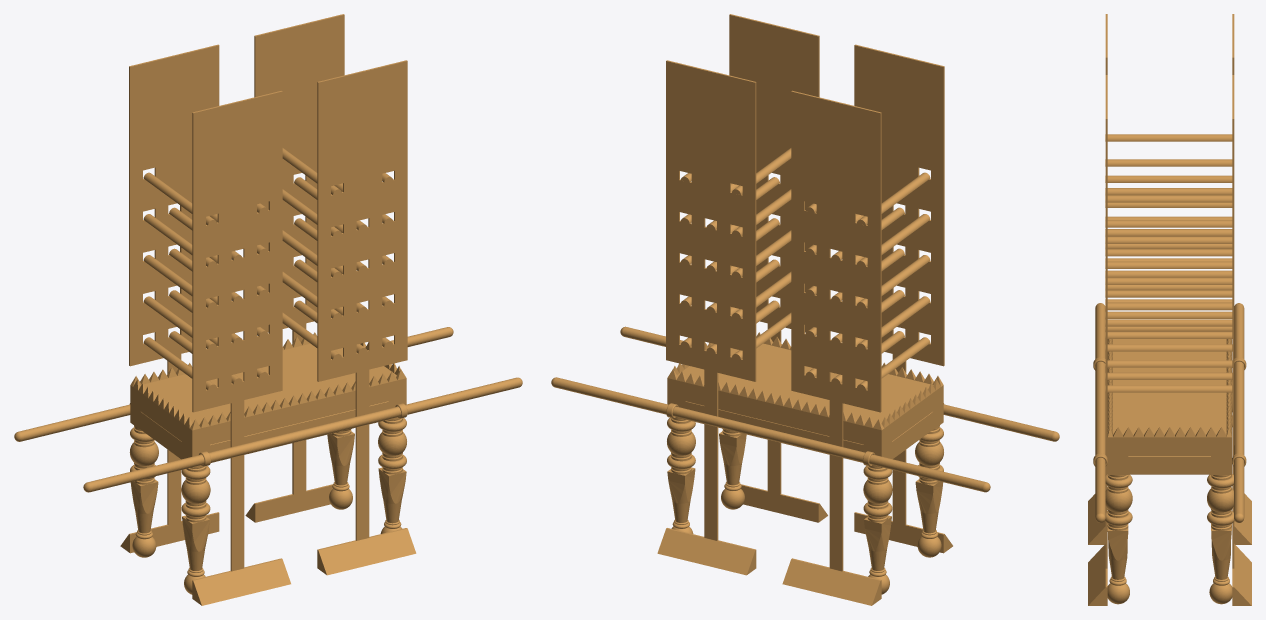
File: shulchan_fancy.fbx
The picture shows the model from 3 angles, left to right: view 1: azimuth 30°, elevation 25°; view 2: azimuth 150°, elevation 25°; view 3: azimuth 270°, elevation 25°; orthographic projection.
Visible parts, largest first — view 1: snif, snif.001, snif.003, snif.002, board, rod, leg_00, leg_00.003, leg_00.001, zeir, rod.001, leg_00.002 (+2 smaller); view 2: snif.002, snif.003, snif, snif.001, board, rod.001, leg_00.003, leg_00, leg_00.002, rod, leg_00.001, zeir_00.001 (+3 smaller); view 3: board, leg_00.001, leg_00.002, snif.001, snif.002, rod.001, rod, misgeret_00.001, kaneh.015, kaneh.027, kaneh.026, kaneh.025 (+29 smaller).
Boxes of the visible parts, x1,y1,x2,y2 form: snif: [192, 91, 290, 605]; snif.001: [317, 60, 416, 575]; snif.003: [120, 44, 219, 553]; snif.002: [245, 14, 344, 522]; board: [130, 343, 406, 448]; rod: [83, 377, 522, 492]; leg_00: [181, 442, 210, 594]; leg_00.003: [129, 404, 158, 557]; leg_00.001: [378, 397, 406, 533]; zeir: [133, 369, 406, 430]; rod.001: [14, 327, 453, 441]; leg_00.002: [327, 428, 354, 509]; snif.002: [657, 60, 756, 575]; snif.003: [782, 90, 881, 605]; snif: [854, 44, 952, 553]; snif.001: [729, 14, 827, 522]; board: [667, 343, 943, 448]; rod.001: [551, 377, 990, 492]; leg_00.003: [863, 442, 892, 594]; leg_00: [915, 404, 943, 557]; leg_00.002: [667, 397, 695, 533]; rod: [620, 326, 1059, 441]; leg_00.001: [719, 428, 746, 509]; zeir_00.001: [667, 369, 884, 430]; board: [1107, 339, 1231, 455]; leg_00.001: [1105, 456, 1132, 604]; leg_00.002: [1207, 456, 1234, 604]; snif.001: [1088, 75, 1107, 605]; snif.002: [1232, 75, 1251, 605]; rod.001: [1234, 303, 1244, 522]; rod: [1095, 303, 1105, 522]; misgeret_00.001: [1128, 456, 1210, 474]; kaneh.015: [1105, 302, 1232, 310]; kaneh.027: [1105, 195, 1232, 202]; kaneh.026: [1105, 220, 1232, 227]; kaneh.025: [1105, 159, 1232, 166].
Bounding box in the file's own units: 98 × 104 × 31.67.
